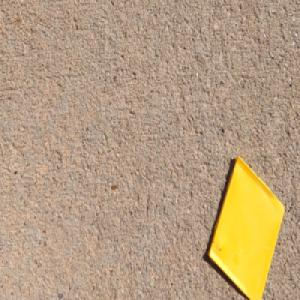PlasticPart: (207, 155, 285, 300)
